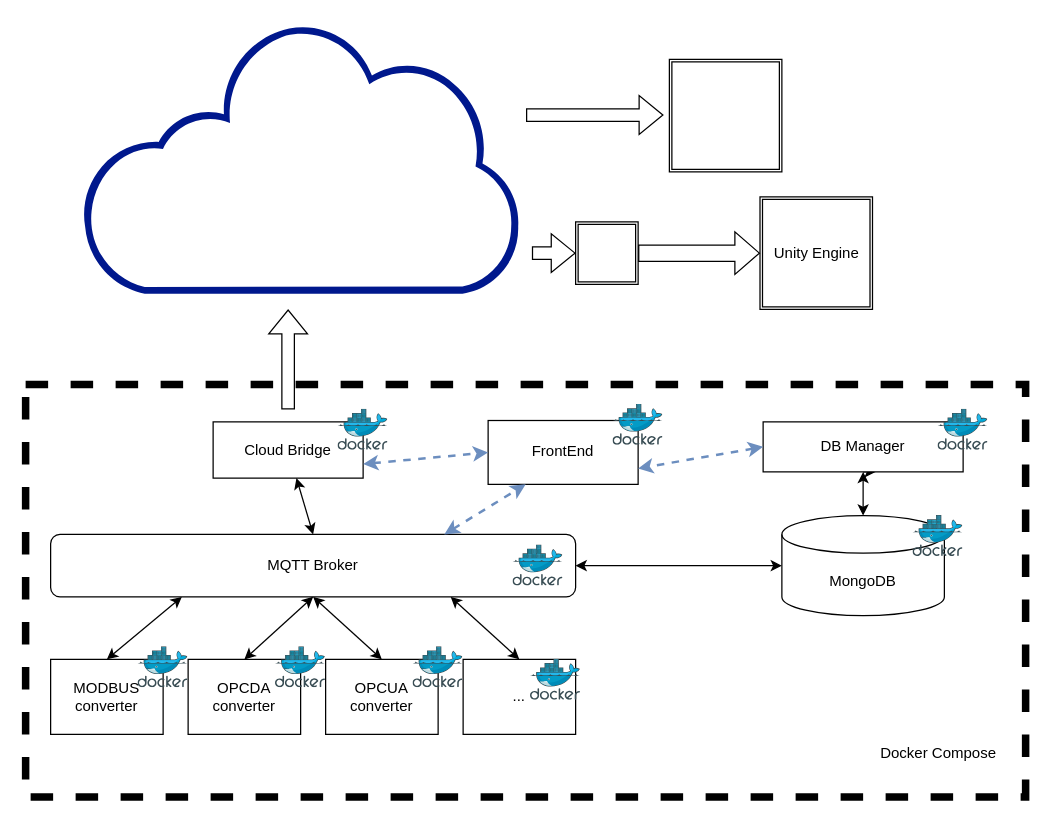
Some shapes in this 1050 by 821 pixel diagram are drawn without their labels. The shapes that lost their labels are listed below. From the top down, each one's centre as x and y in pixels, then its label:
point (725, 115): Dashboard
point (606, 252): API
